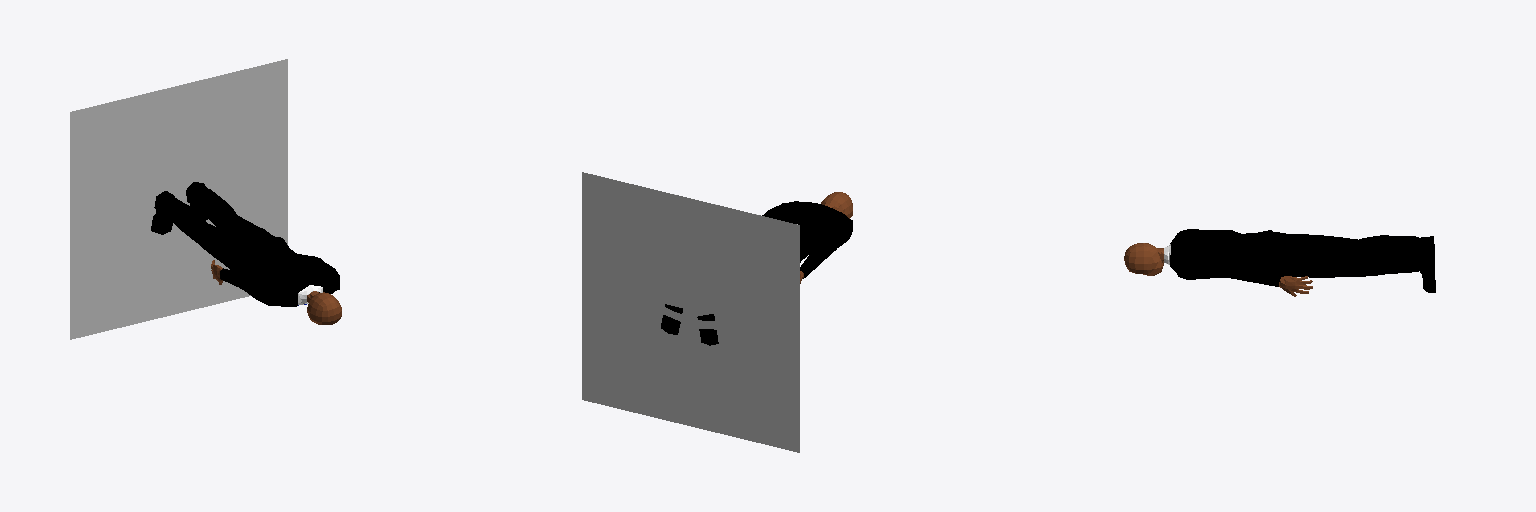
Rendered from Human.obj.
3 views of the same model, side by side, from view 1: azimuth 30°, elevation 25°; view 2: azimuth 150°, elevation 25°; view 3: azimuth 270°, elevation 25° (orthographic).
Parts seen in each view (by area): view 1: Cube, hm_網格.002; view 2: Cube, hm_網格.002; view 3: hm_網格.002.
Part boxes in pixels (bbox=[...]): Cube: bbox=[70, 59, 287, 339]; hm_網格.002: bbox=[151, 182, 341, 324]; Cube: bbox=[582, 172, 799, 452]; hm_網格.002: bbox=[661, 192, 852, 345]; hm_網格.002: bbox=[1124, 229, 1435, 296].
Size of the model in its own units: 15 by 15 by 18.6.